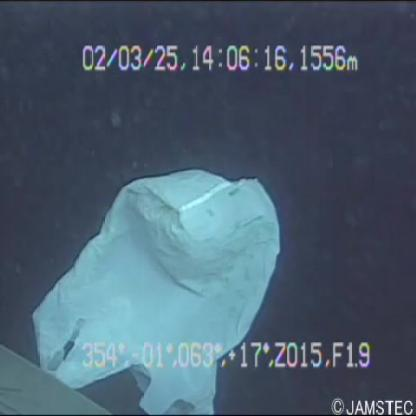Rov: (2, 335, 126, 416)
Rác: (24, 144, 278, 416)
